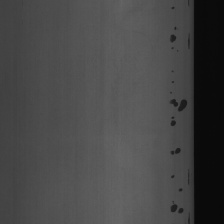oil_spot: (166, 86, 189, 130), (168, 199, 191, 223), (168, 23, 181, 44), (168, 141, 184, 158), (185, 32, 192, 51), (168, 167, 177, 181), (170, 61, 175, 85), (185, 170, 191, 186), (169, 5, 176, 14), (185, 0, 191, 10), (177, 189, 183, 198)
